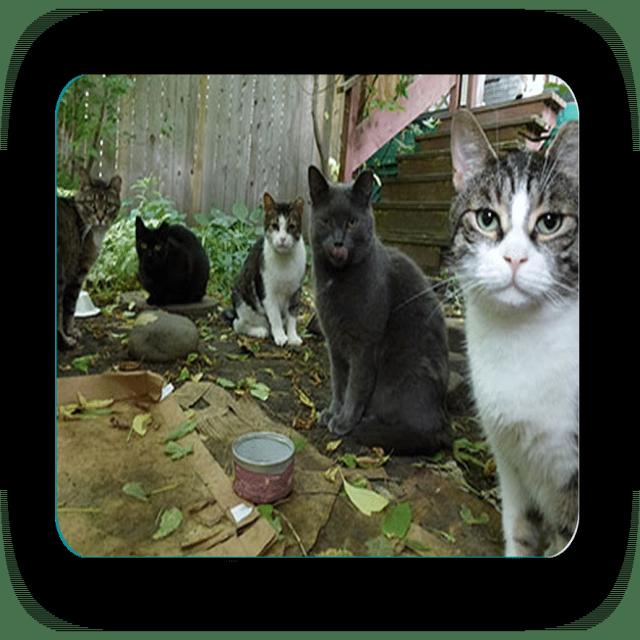cat: (450, 110, 579, 556), (309, 166, 450, 454), (229, 193, 306, 346), (58, 168, 121, 349), (135, 217, 209, 306)
